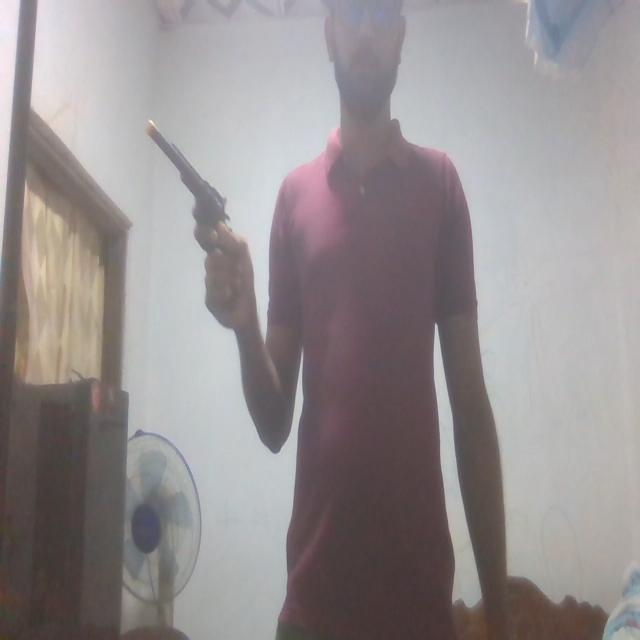Gun_Holder: (146, 112, 244, 316)
Person: (203, 0, 512, 640)
